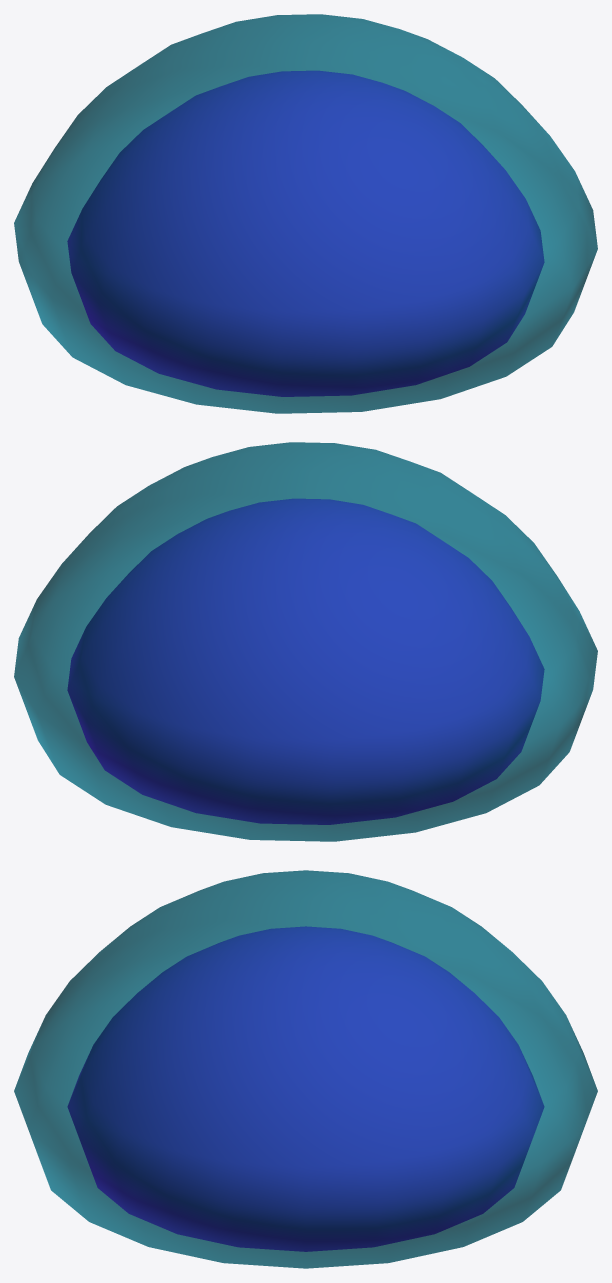
File: drug.fbx
The picture shows the model from 3 angles, top to bottom: view 1: azimuth 30°, elevation 25°; view 2: azimuth 150°, elevation 25°; view 3: azimuth 270°, elevation 25°; orthographic projection.
Parts seen in each view (by area): view 1: pSphere12, pSphere11; view 2: pSphere12, pSphere11; view 3: pSphere12, pSphere11.
Part boxes in pixels (bbox=[...]): pSphere12: bbox=[14, 14, 597, 413]; pSphere11: bbox=[67, 71, 544, 396]; pSphere12: bbox=[14, 442, 597, 841]; pSphere11: bbox=[67, 499, 544, 824]; pSphere12: bbox=[14, 870, 597, 1268]; pSphere11: bbox=[67, 926, 544, 1251].
Size of the model in its own units: 3.15 by 1.72 by 3.15.
